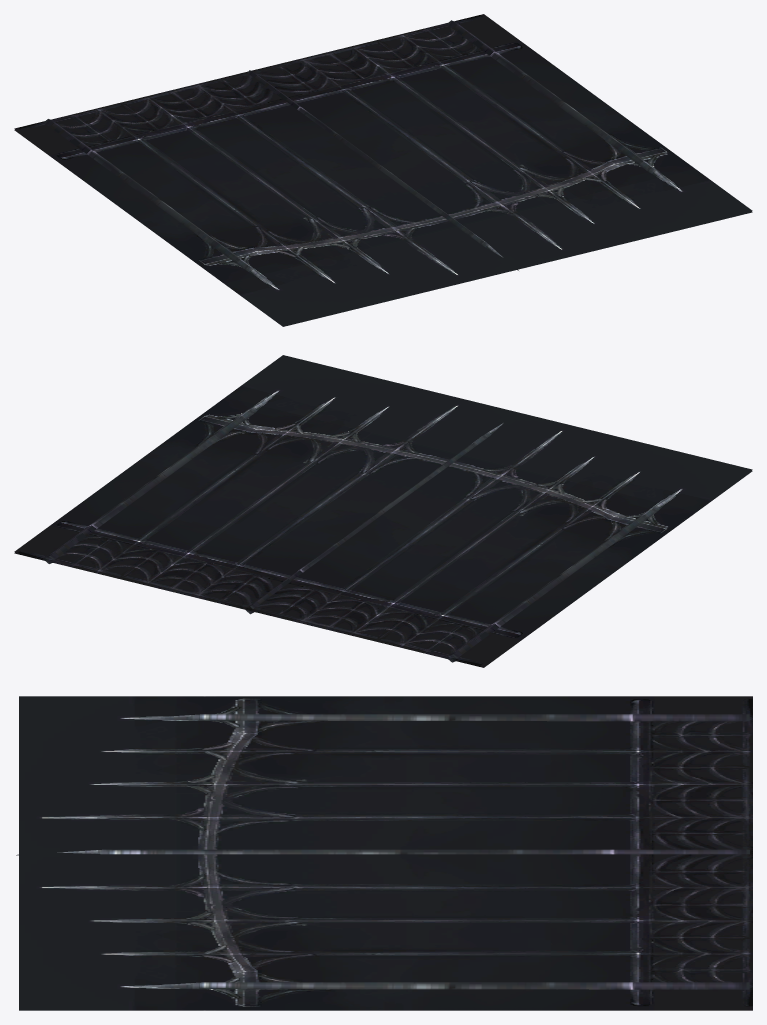
The model's file is tanxian_fuben_257_weilan_02.obj.
3 views of the same model, one above another, from view 1: azimuth 30°, elevation 25°; view 2: azimuth 150°, elevation 25°; view 3: azimuth 270°, elevation 25° (orthographic). The views are drawn at different scales.
Parts seen in each view (by area): view 1: tanxian_fuben_257_weilan_02; view 2: tanxian_fuben_257_weilan_02; view 3: tanxian_fuben_257_weilan_02.
Part boxes in pixels (bbox=[...]): tanxian_fuben_257_weilan_02: bbox=[14, 14, 752, 326]; tanxian_fuben_257_weilan_02: bbox=[14, 355, 752, 667]; tanxian_fuben_257_weilan_02: bbox=[16, 696, 752, 1010].
Size of the model in its own units: 195 by 3.46 by 195.
1 material, 1 textured.
